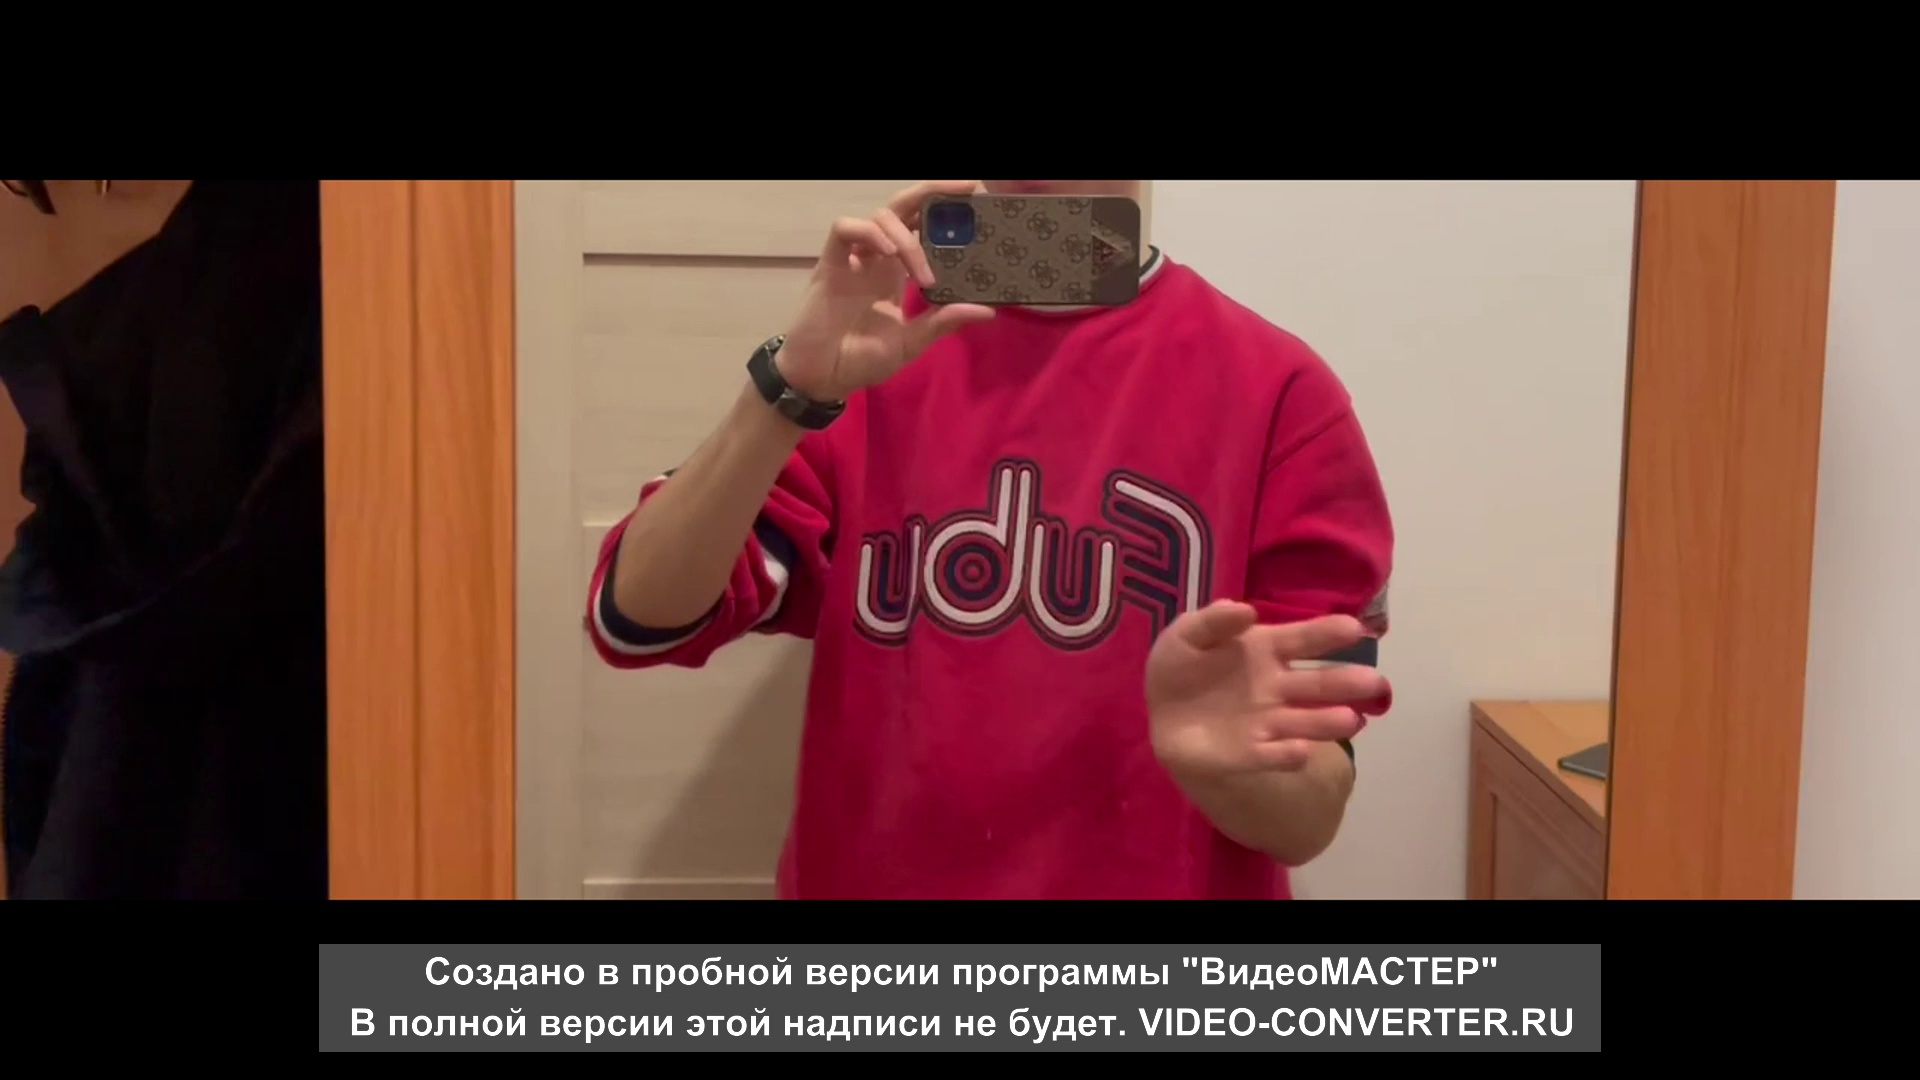Ладонь: (1146, 599, 1378, 775)
